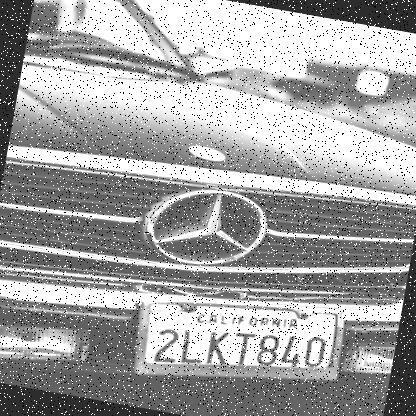License-Plate: (118, 271, 361, 414)
